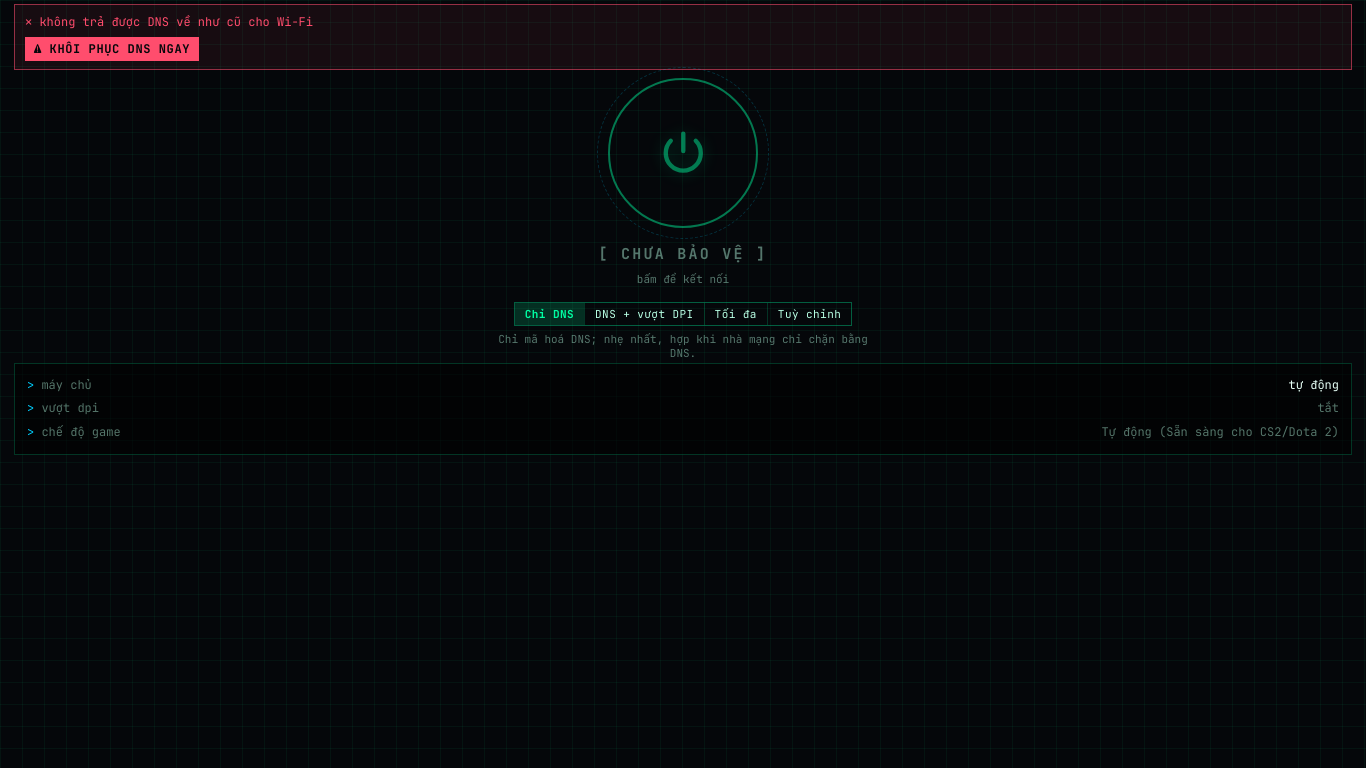
a failed restore from the warning banner is shown
The width and height of the screenshot is (1366, 768).
Click the button "⚠ KHÔI PHỤC DNS NGAY" at (112, 49), box [25,37,199,61]
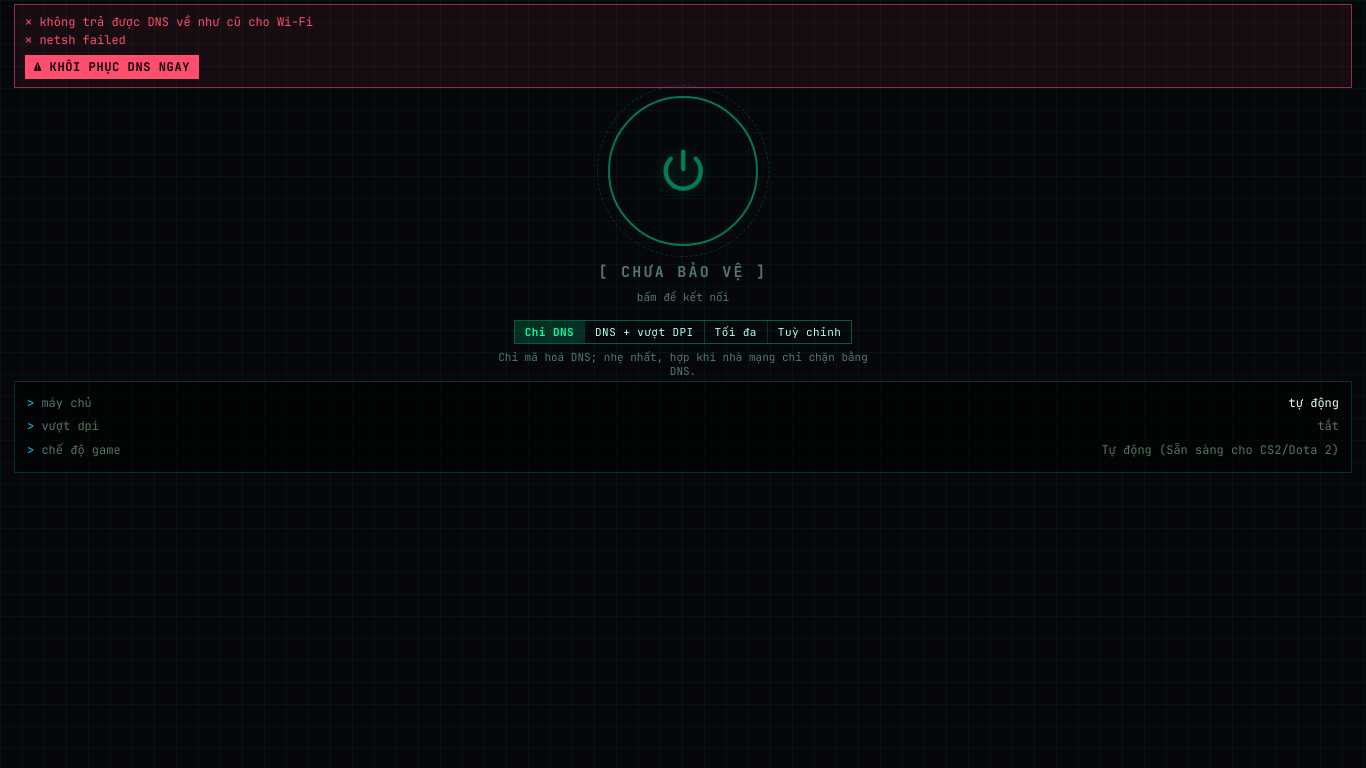
Result: the text "✕ netsh failed" is shown at [25,32,126,48]
